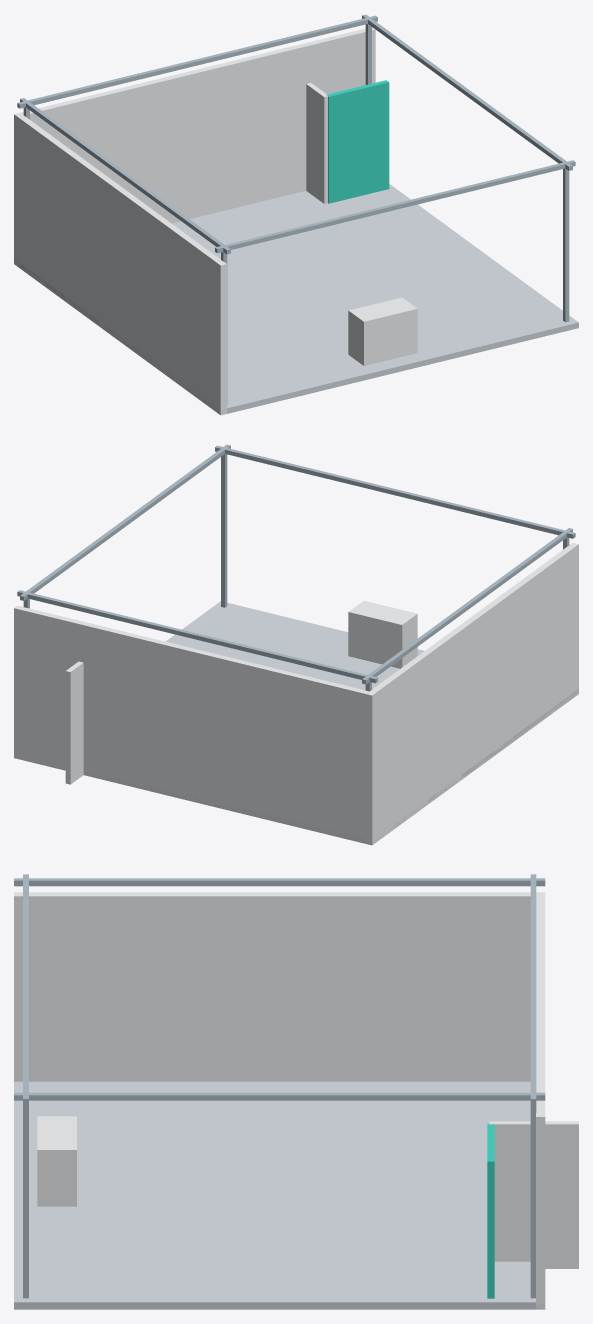
3 views of the same model, one above another, from view 1: azimuth 30°, elevation 25°; view 2: azimuth 150°, elevation 25°; view 3: azimuth 270°, elevation 25° (orthographic). The views are drawn at different scales.
Parts seen in each view (by area): view 1: Exhibition Booth Concept; view 2: Exhibition Booth Concept; view 3: Exhibition Booth Concept.
Part boxes in pixels (<box>): Exhibition Booth Concept: <box>14,14,578,415</box>; Exhibition Booth Concept: <box>14,444,578,845</box>; Exhibition Booth Concept: <box>14,874,578,1309</box>.
Bounding box in the file's own units: 8 × 3.49 × 8.51.
